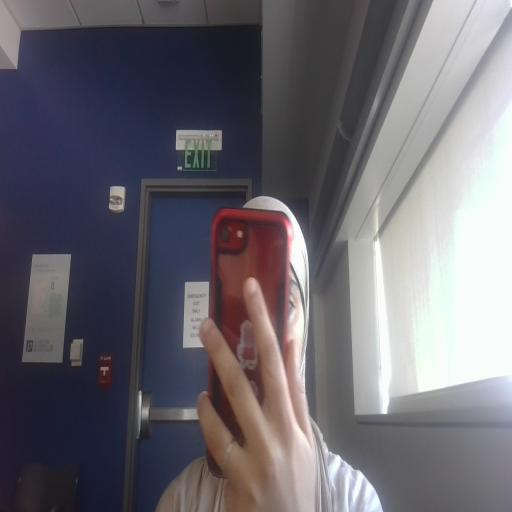phone: (194, 193, 331, 504)
